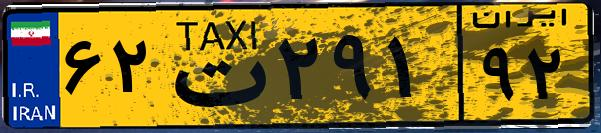1: (385, 28, 445, 110)
2: (270, 28, 330, 110), (525, 38, 570, 115), (110, 28, 158, 98)
6: (57, 26, 110, 100)
9: (330, 28, 385, 110), (475, 38, 525, 113)
ت: (158, 12, 270, 120)
